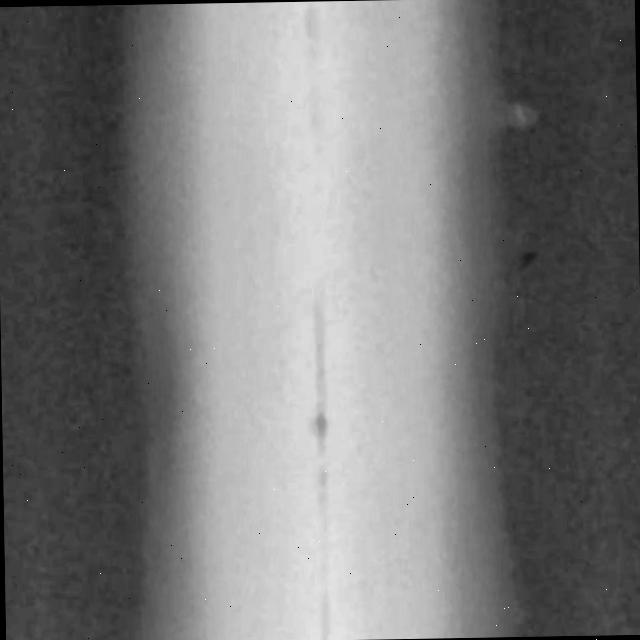LoP-LoF: (278, 0, 355, 634)
